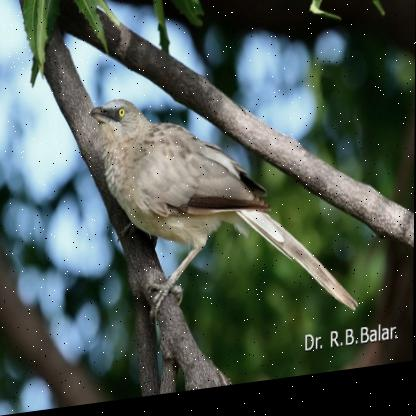Burung: (88, 75, 359, 351)
